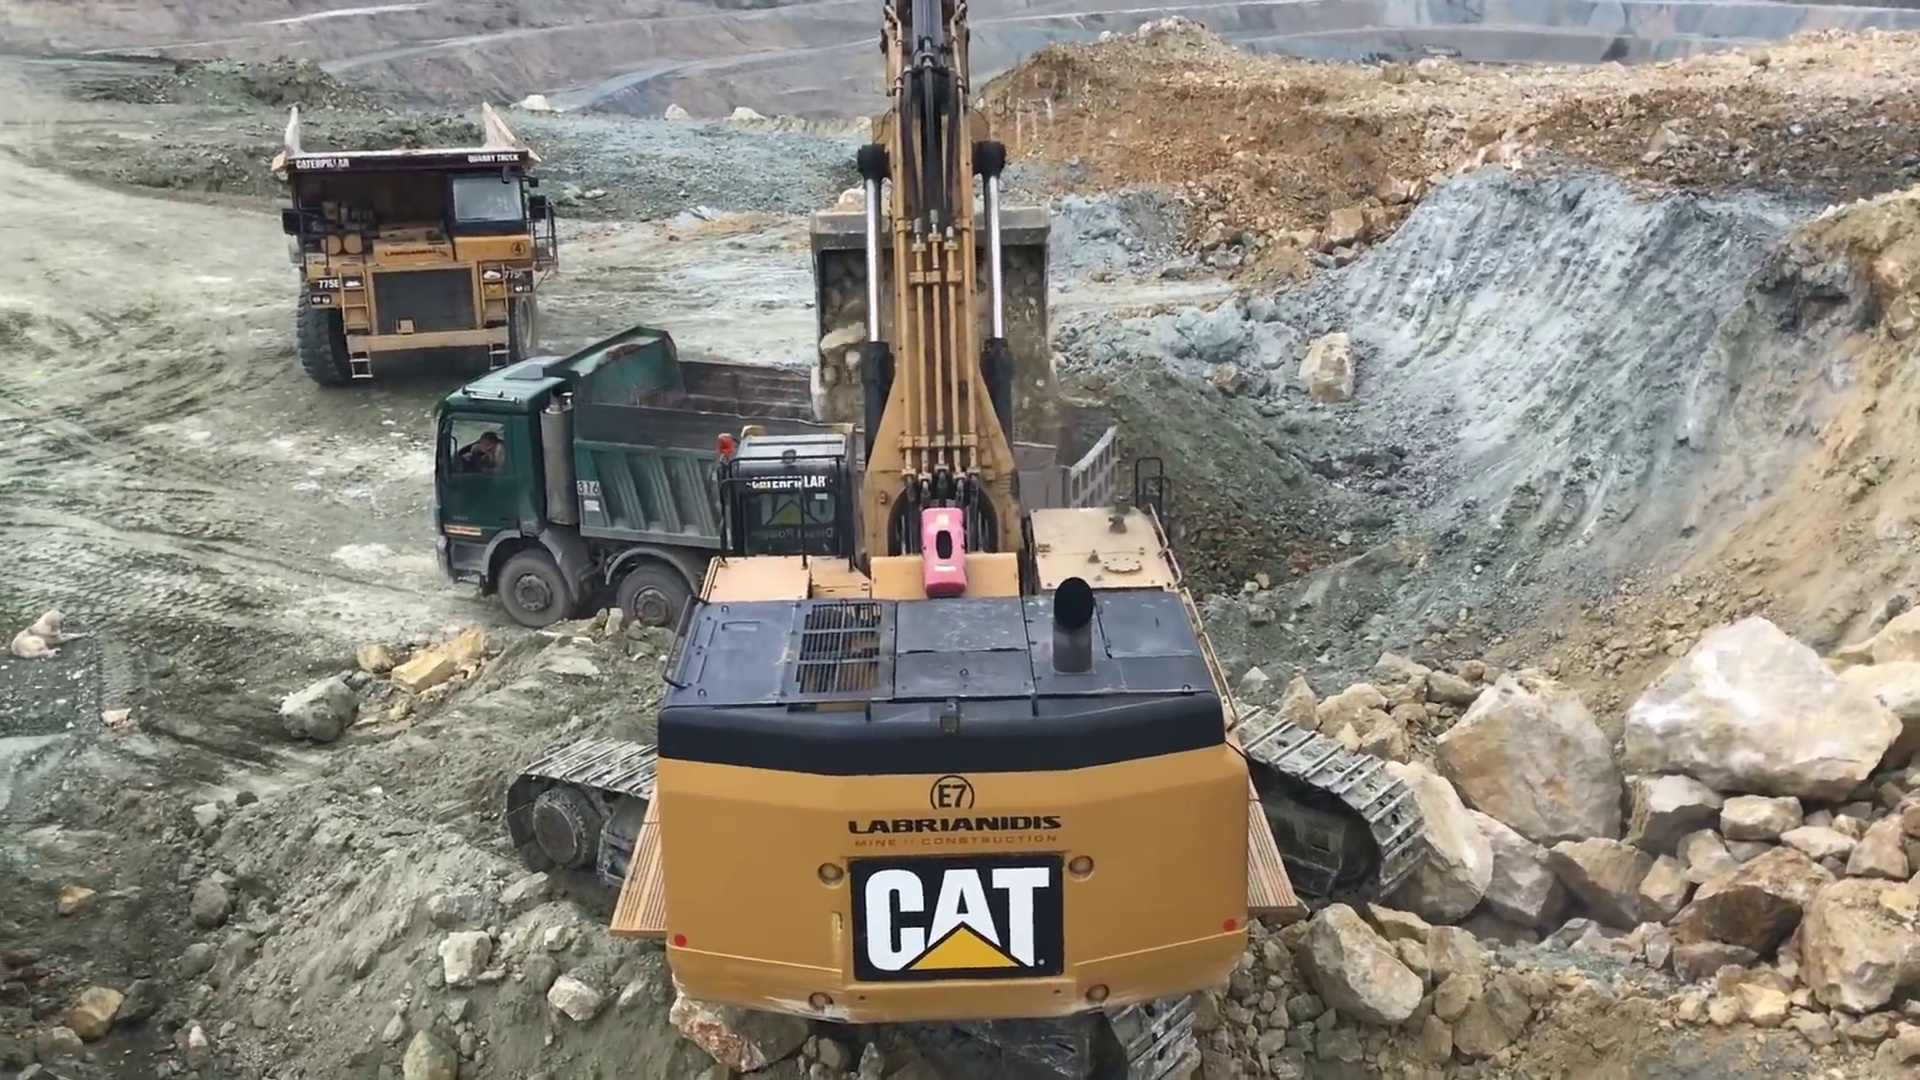dumper: (270, 102, 542, 378)
excavator: (501, 11, 1262, 1069)
truck: (430, 324, 1125, 626)
